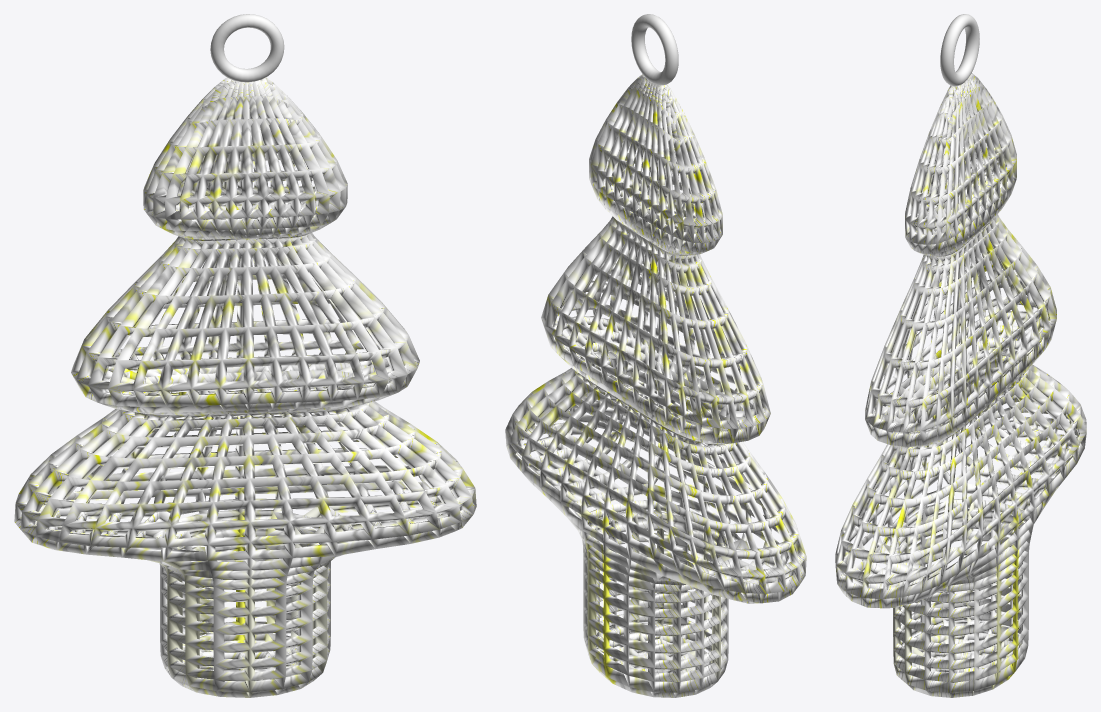
Rendered from tree_petit.glb.
3 views of the same model, side by side, from view 1: azimuth 30°, elevation 25°; view 2: azimuth 150°, elevation 25°; view 3: azimuth 270°, elevation 25° (orthographic).
Parts seen in each view (by area): view 1: Object_12.001; view 2: Object_12.001; view 3: Object_12.001.
Part boxes in pixels (<box>): Object_12.001: <box>14,14,476,697</box>; Object_12.001: <box>505,14,806,697</box>; Object_12.001: <box>835,14,1086,697</box>.
Size of the model in its own units: 0.0838 by 0.1447 by 0.0498.
Materials: 2 (1 with a texture image).
